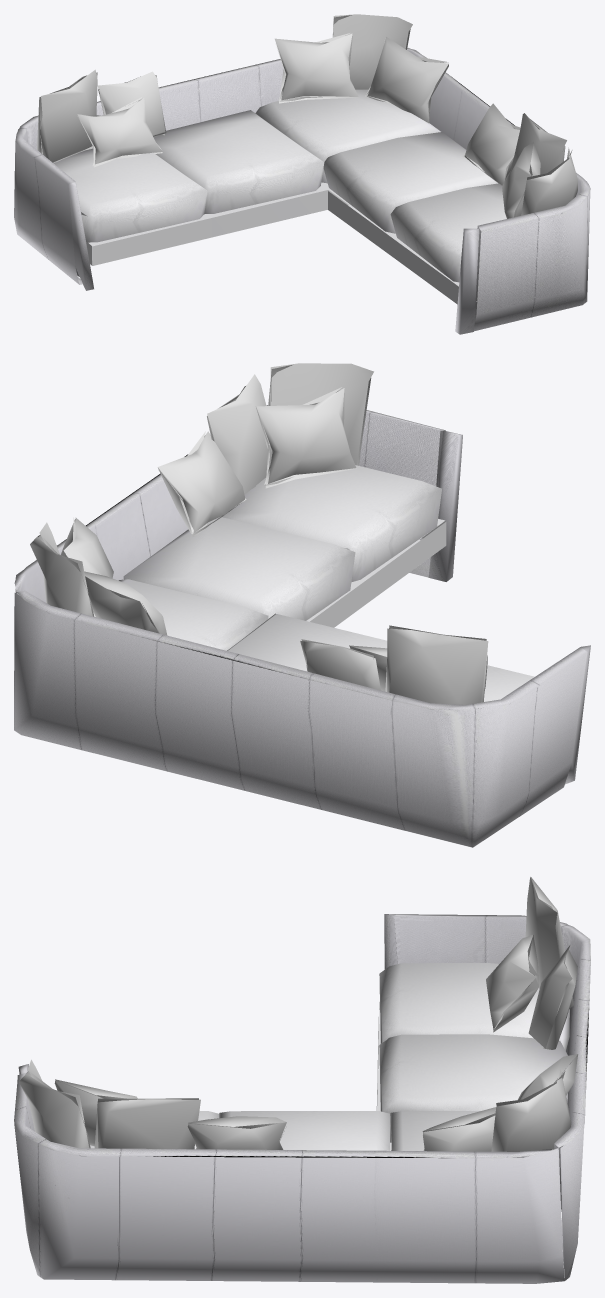
The picture shows the model from 3 angles, top to bottom: view 1: azimuth 30°, elevation 25°; view 2: azimuth 150°, elevation 25°; view 3: azimuth 270°, elevation 25°; orthographic projection. The views are drawn at different scales.
Visible parts, largest first — view 1: Kanaba; view 2: Kanaba; view 3: Kanaba.
Part boxes in pixels (x1,y1,x2,y2): Kanaba: (14, 14, 590, 334); Kanaba: (14, 363, 590, 847); Kanaba: (14, 877, 590, 1283).
Size of the model in its own units: 205 by 74.97 by 204.
Materials: 3 (3 with a texture image).
